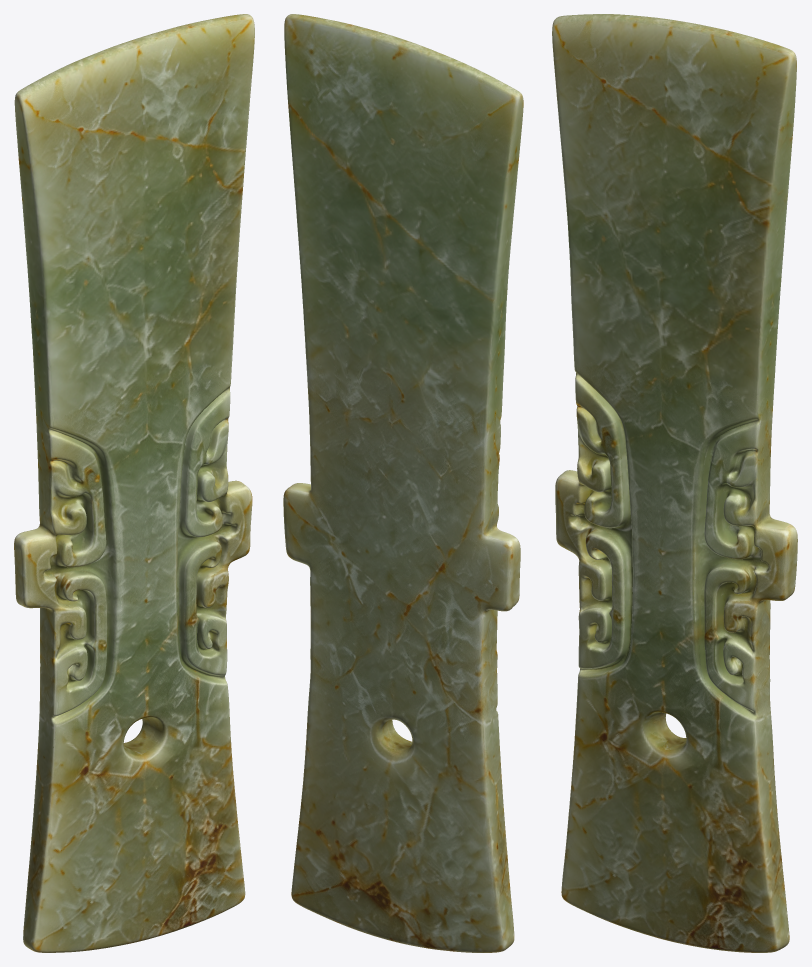
File: jade-zhang.glb
3 views of the same model, side by side, from view 1: azimuth 30°, elevation 25°; view 2: azimuth 150°, elevation 25°; view 3: azimuth 330°, elevation 25° (orthographic). The views are drawn at different scales.
Bounding box in the file's own units: 0.5206 × 1.9 × 0.0907.
1 material, 1 textured.
